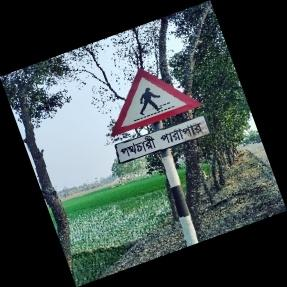Pedestrian-crossing: (110, 68, 208, 167)
